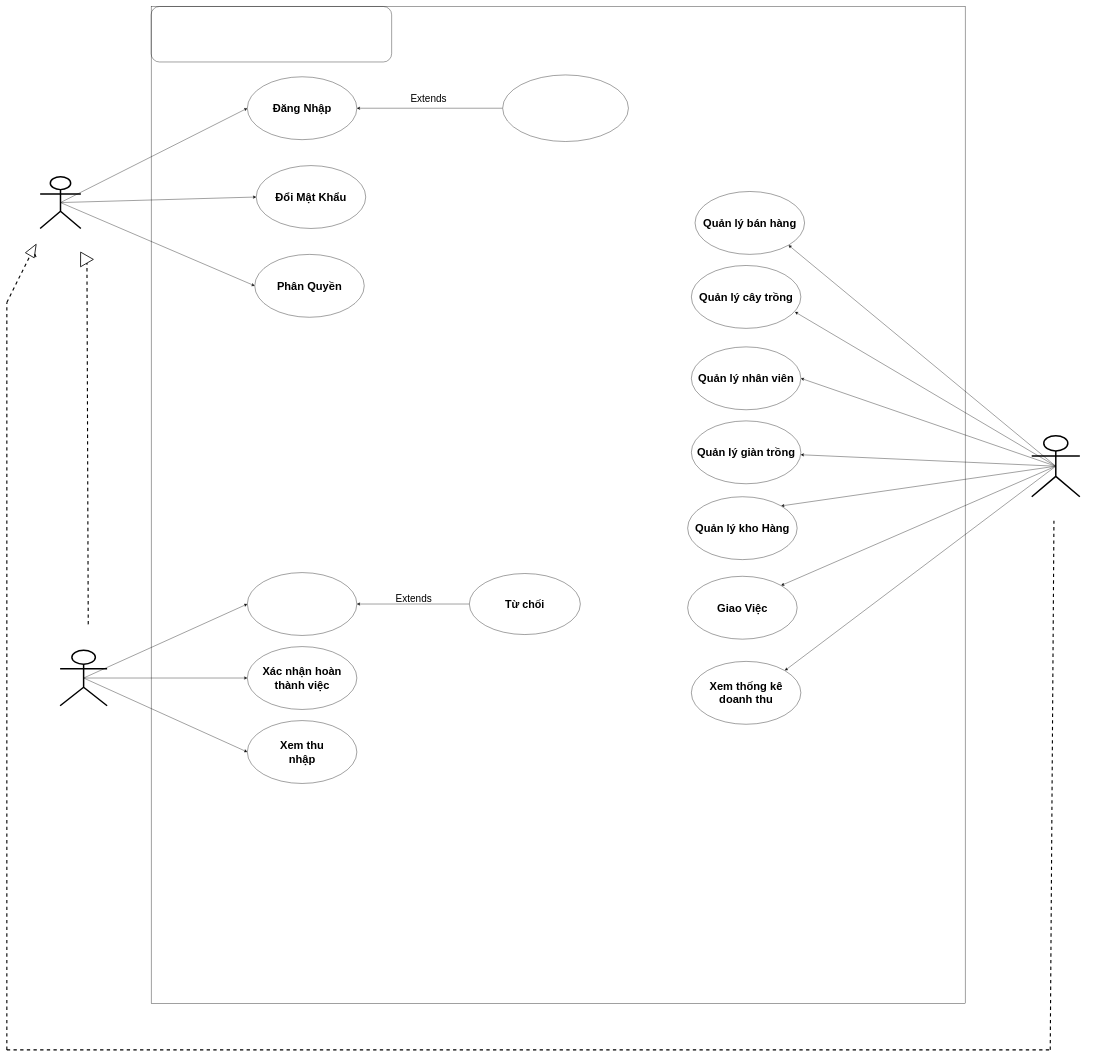
Image size: 1098x1057. Some labels were removed from this diagram. The shapes that lost their labels are listed below. From the top down, each one's box as (x1, y1, x2, y2) in pixels, then its label:
(151, 6, 392, 62): Tổng quát
(502, 75, 628, 142): Đăng xuất
(39, 176, 81, 229): User
(1031, 435, 1080, 497): Trưởng Phòng
(247, 572, 357, 635): Nhận Việc
(59, 649, 108, 706): Nhân viên
